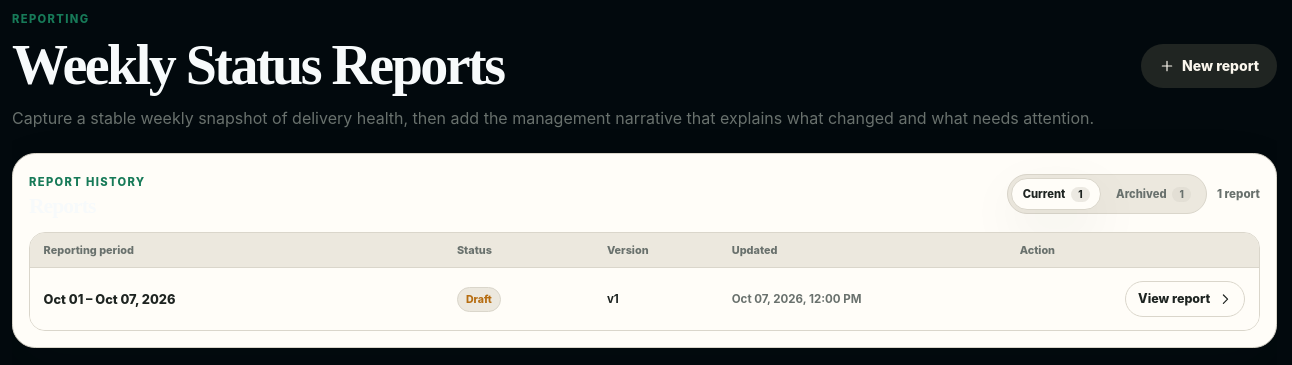
Scenario: Reports history HTML semantics › uses native pressed buttons to filter Current and Archived reports
Check: the text "Oct 01 – Oct 07, 2026" is shown, box 44,292 -> 175,307
What coordinates should you click on to do the following:
click the button "Archived 1"
I would click on:
 (1154, 194)
Its box is 1105,178 -> 1203,210.
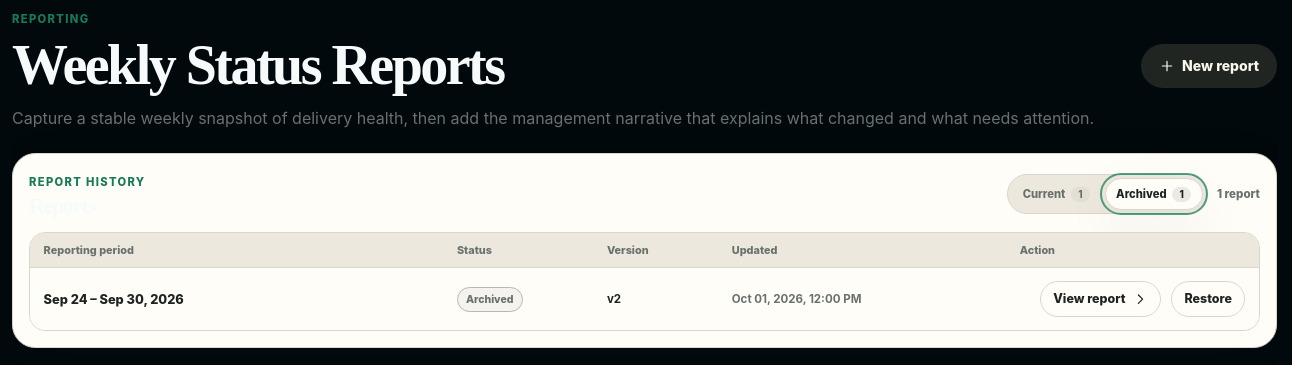
Check: the text "Sep 24 – Sep 30, 2026" is shown, box 44,292 -> 184,307
Check: the text "Oct 01 – Oct 07, 2026" is gone
